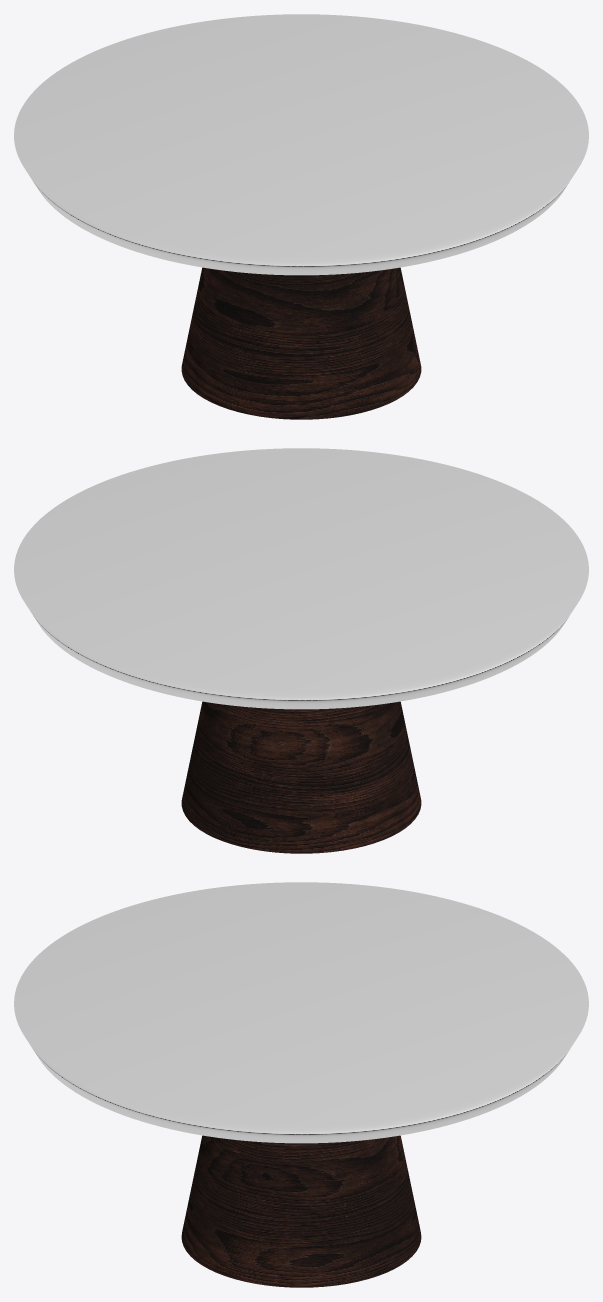
Rendered from table.glb.
The picture shows the model from 3 angles, top to bottom: view 1: azimuth 30°, elevation 25°; view 2: azimuth 150°, elevation 25°; view 3: azimuth 270°, elevation 25°; orthographic projection.
Parts seen in each view (by area): view 1: Cylinder, leg; view 2: Cylinder, leg; view 3: Cylinder, leg.
Boxes of the visible parts, box(x1,y1,x2,y2) form: Cylinder: box(14, 14, 588, 275); leg: box(181, 267, 421, 419); Cylinder: box(14, 448, 588, 709); leg: box(181, 701, 421, 853); Cylinder: box(14, 882, 588, 1143); leg: box(181, 1135, 421, 1287).
Size of the model in its own units: 4.23 by 1.89 by 4.23.
1 material, 1 textured.
